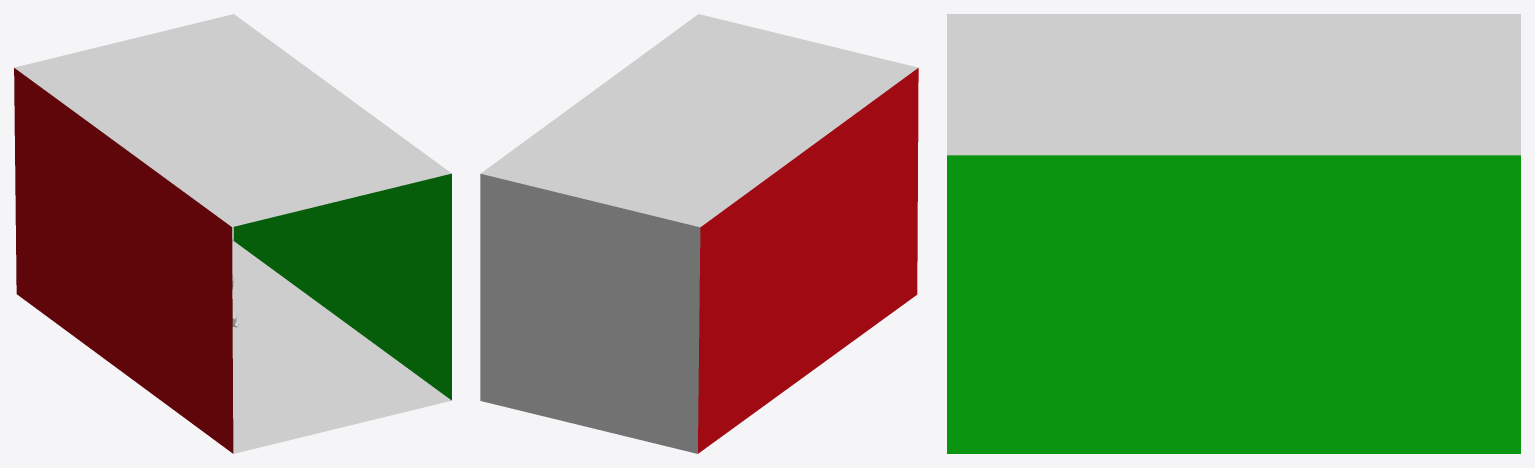
The model's file is MyCornell.gltf.
3 renders of one model, left to right at view 1: azimuth 30°, elevation 25°; view 2: azimuth 150°, elevation 25°; view 3: azimuth 270°, elevation 25°, orthographic. The views are drawn at different scales.
Visible parts, largest first — view 1: cornell_box; view 2: cornell_box; view 3: cornell_box.
Part boxes in pixels (box(x1,y1,x2,y2)): cornell_box: box(14, 14, 451, 453); cornell_box: box(480, 14, 918, 453); cornell_box: box(947, 14, 1520, 453).
Bounding box in the file's own units: 11.35 × 11.21 × 19.49.
